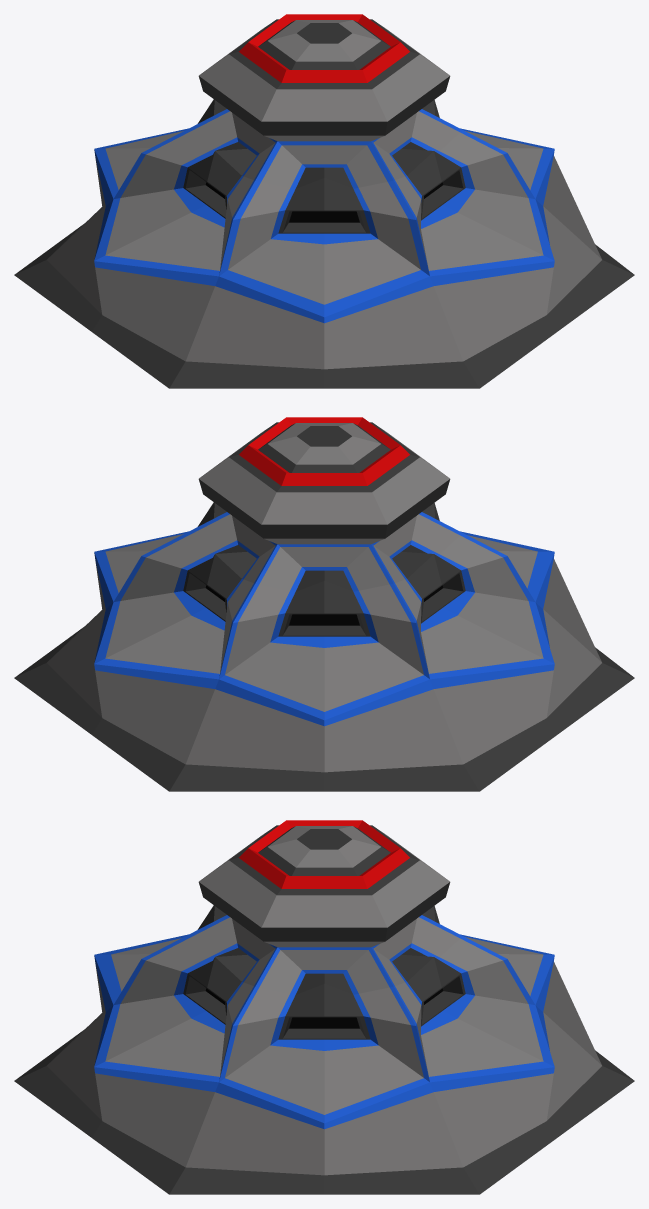
Rendered from BaseLanceAcide.fbx.
3 renders of one model, top to bottom at view 1: azimuth 30°, elevation 25°; view 2: azimuth 150°, elevation 25°; view 3: azimuth 270°, elevation 25°, orthographic.
Visible parts, largest first — view 1: Cylinder; view 2: Cylinder; view 3: Cylinder.
Boxes of the visible parts, box(x1,y1,x2,y2) form: Cylinder: box(14, 14, 634, 388); Cylinder: box(14, 417, 634, 791); Cylinder: box(14, 820, 634, 1194).
Size of the model in its own units: 173 by 85.92 by 200.
